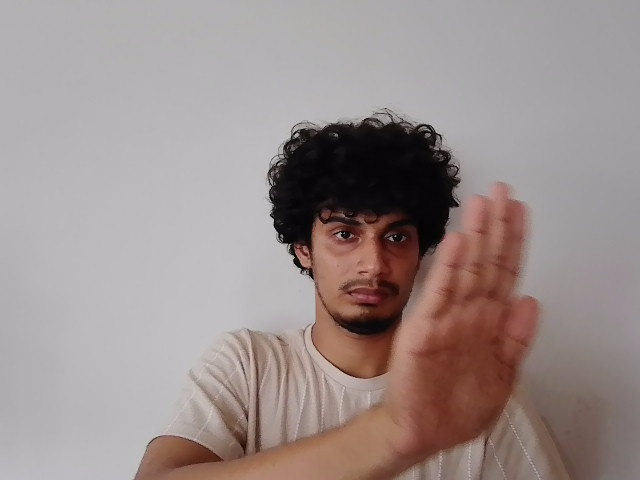hello: (387, 180, 540, 450)
